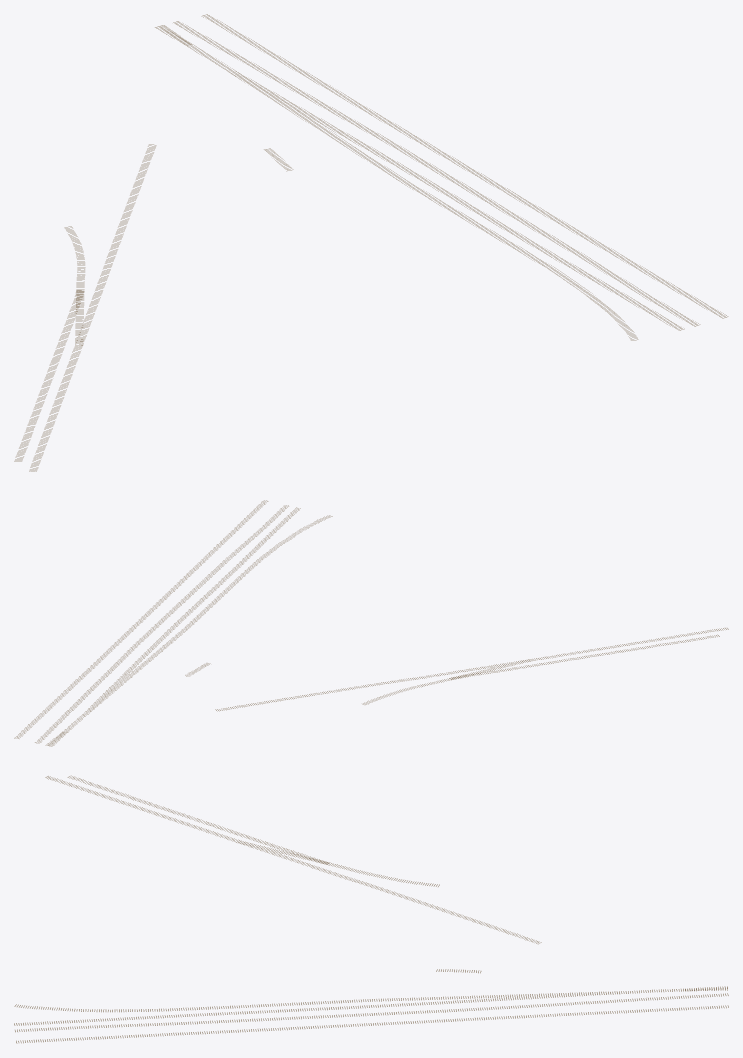
Rendered from c_1630_17821_rail_sleeper.glb.
The picture shows the model from 3 angles, top to bottom: view 1: azimuth 30°, elevation 25°; view 2: azimuth 150°, elevation 25°; view 3: azimuth 270°, elevation 25°; orthographic projection. The views are drawn at different scales.
Parts seen in each view (by area): view 1: geometry_0; view 2: geometry_0; view 3: geometry_0.
Boxes of the visible parts, x1=… form: geometry_0: x1=14, y1=14, x2=728, y2=471; geometry_0: x1=14, y1=500, x2=728, y2=746; geometry_0: x1=14, y1=775, x2=728, y2=1043.
Size of the model in its own units: 230 by 2.08 by 256.
